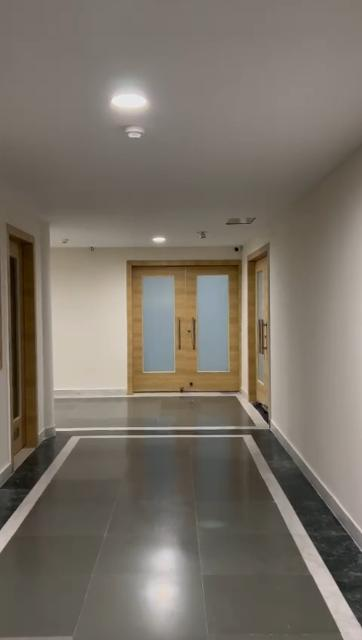door: (125, 260, 239, 390), (9, 226, 38, 457), (246, 255, 272, 407)
floor: (0, 394, 362, 640)
wall: (275, 157, 362, 519), (43, 247, 121, 386)
